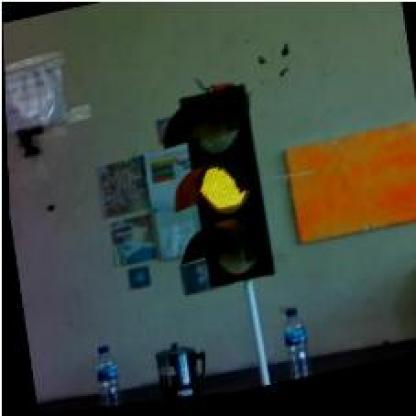yellow: (156, 83, 273, 298)
